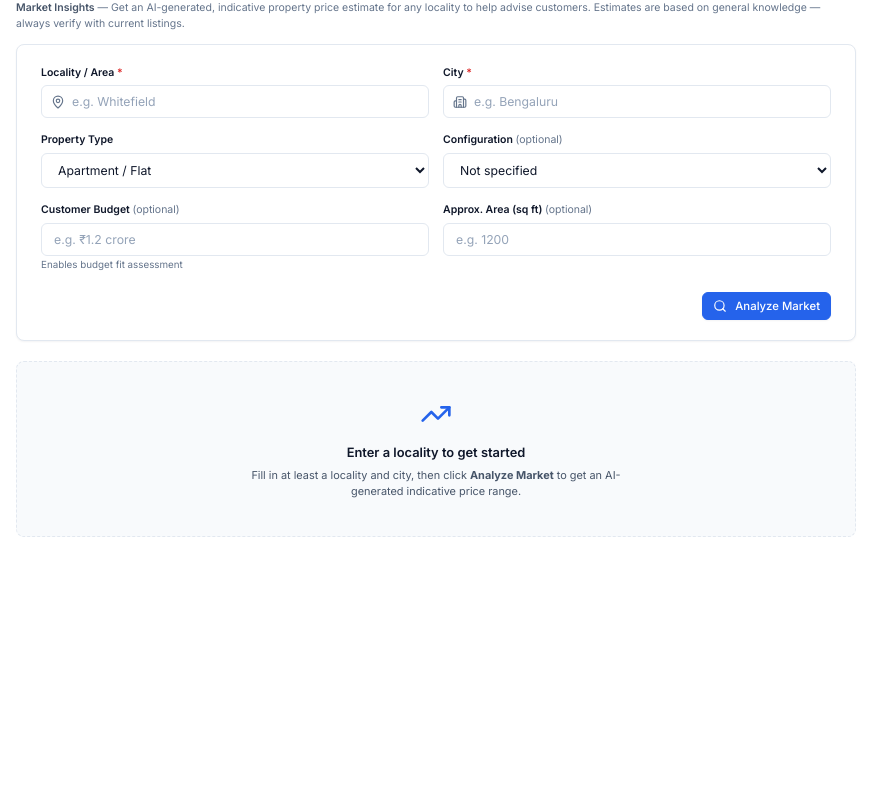
Test: MarketInsights — Success Results › always shows the disclaimer with results
This screenshot has width=873, height=800.
Type "Whitefield" into the field with placeholder "e.g. Whitefield" at (235, 102), box [41,85,429,118]
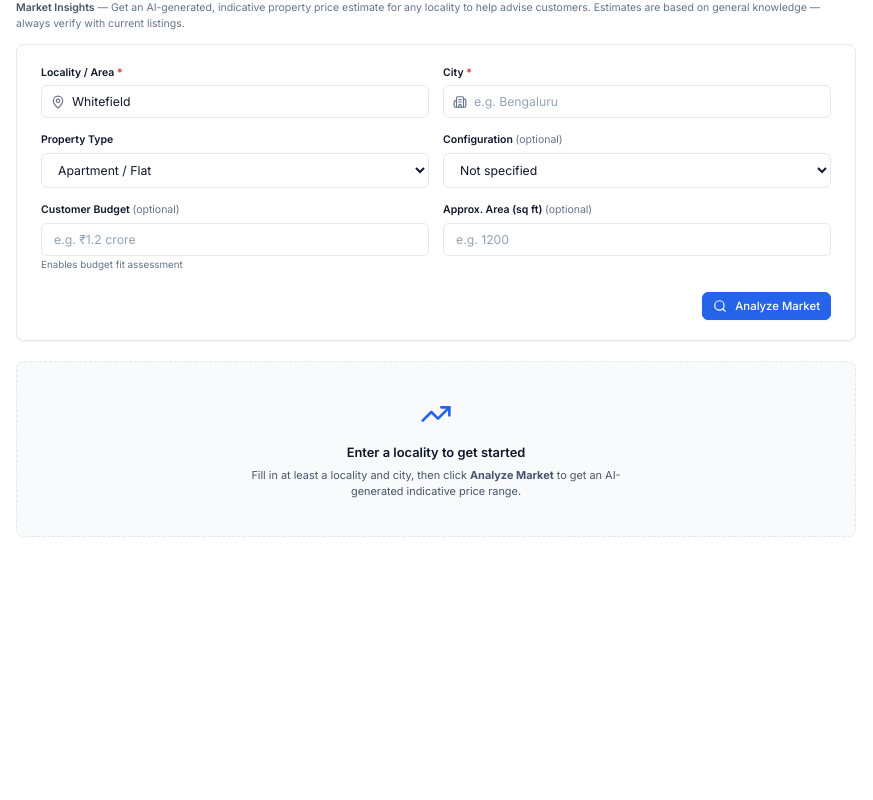
Type "Bengaluru" into the field with placeholder "e.g. Bengaluru" at (637, 102), box [443,85,831,118]
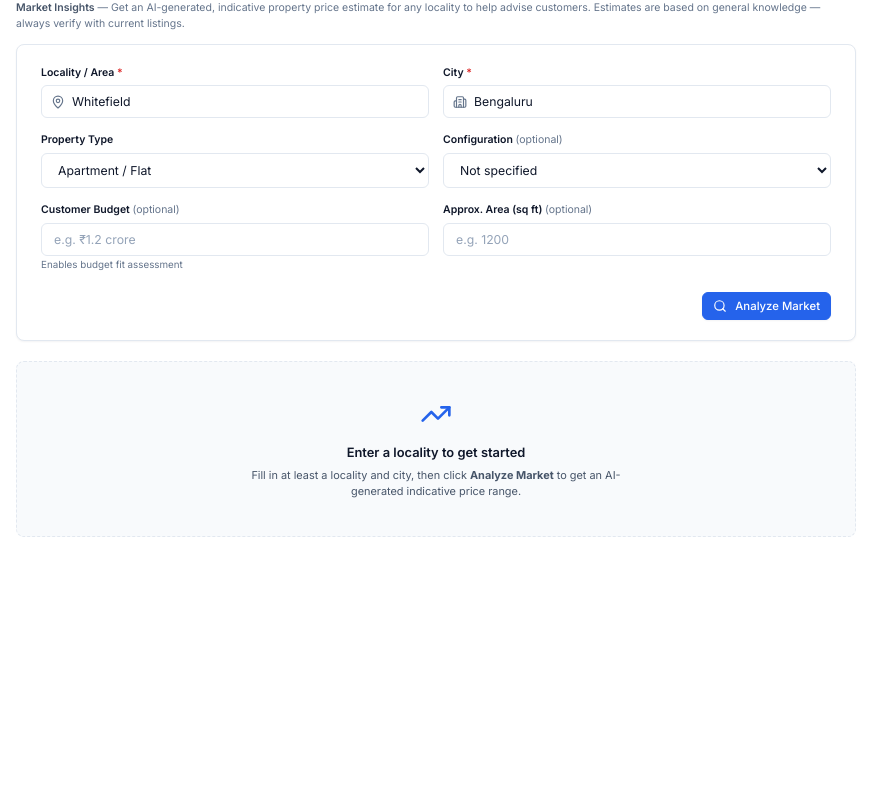
Click the button "Analyze Market" at (767, 306), box [702,292,831,320]
(page scrolled)
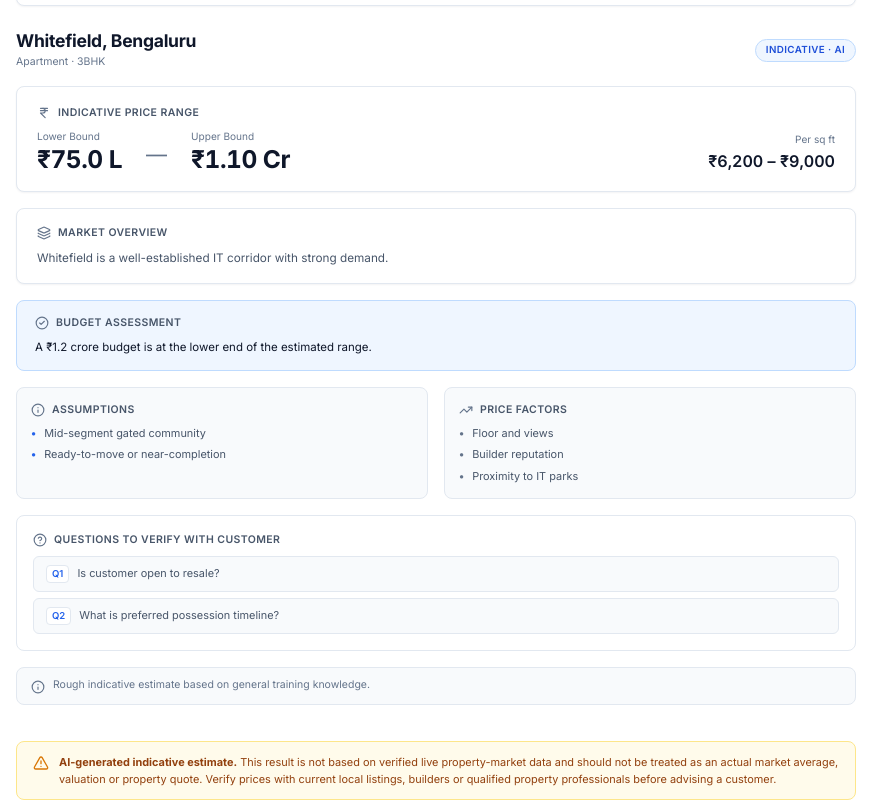
Expected: the text "AI-generated indicative estimate." is shown, [59,755,237,769]
Expected: the text "not based on verified live property-market data" is shown, [59,755,838,786]
